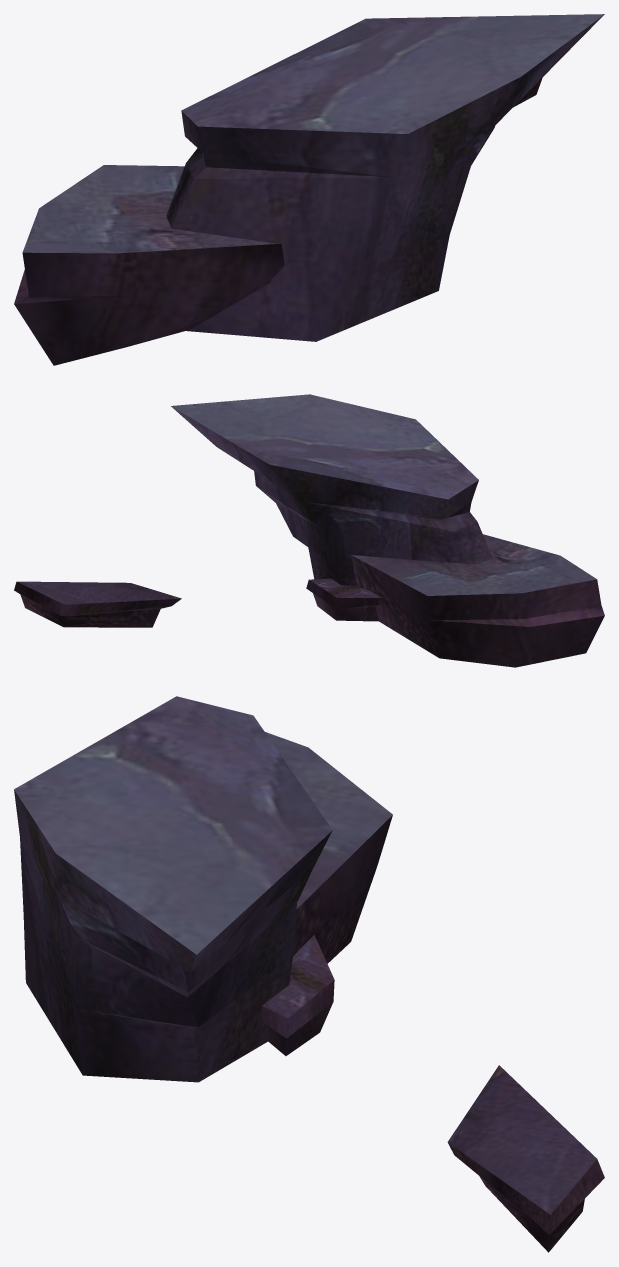
Rendered from yw_huanghunzhihu_shitou03.FBX.
3 renders of one model, top to bottom at view 1: azimuth 30°, elevation 25°; view 2: azimuth 150°, elevation 25°; view 3: azimuth 270°, elevation 25°, orthographic. The views are drawn at different scales.
Visible parts, largest first — view 1: yw_huanghunzhihu_shitou03; view 2: yw_huanghunzhihu_shitou03; view 3: yw_huanghunzhihu_shitou03.
Part boxes in pixels (x1,y1,x2,y2): yw_huanghunzhihu_shitou03: (14, 14, 604, 365); yw_huanghunzhihu_shitou03: (14, 394, 604, 667); yw_huanghunzhihu_shitou03: (14, 696, 604, 1252).
Bounding box in the file's own units: 392 × 123 × 227.
